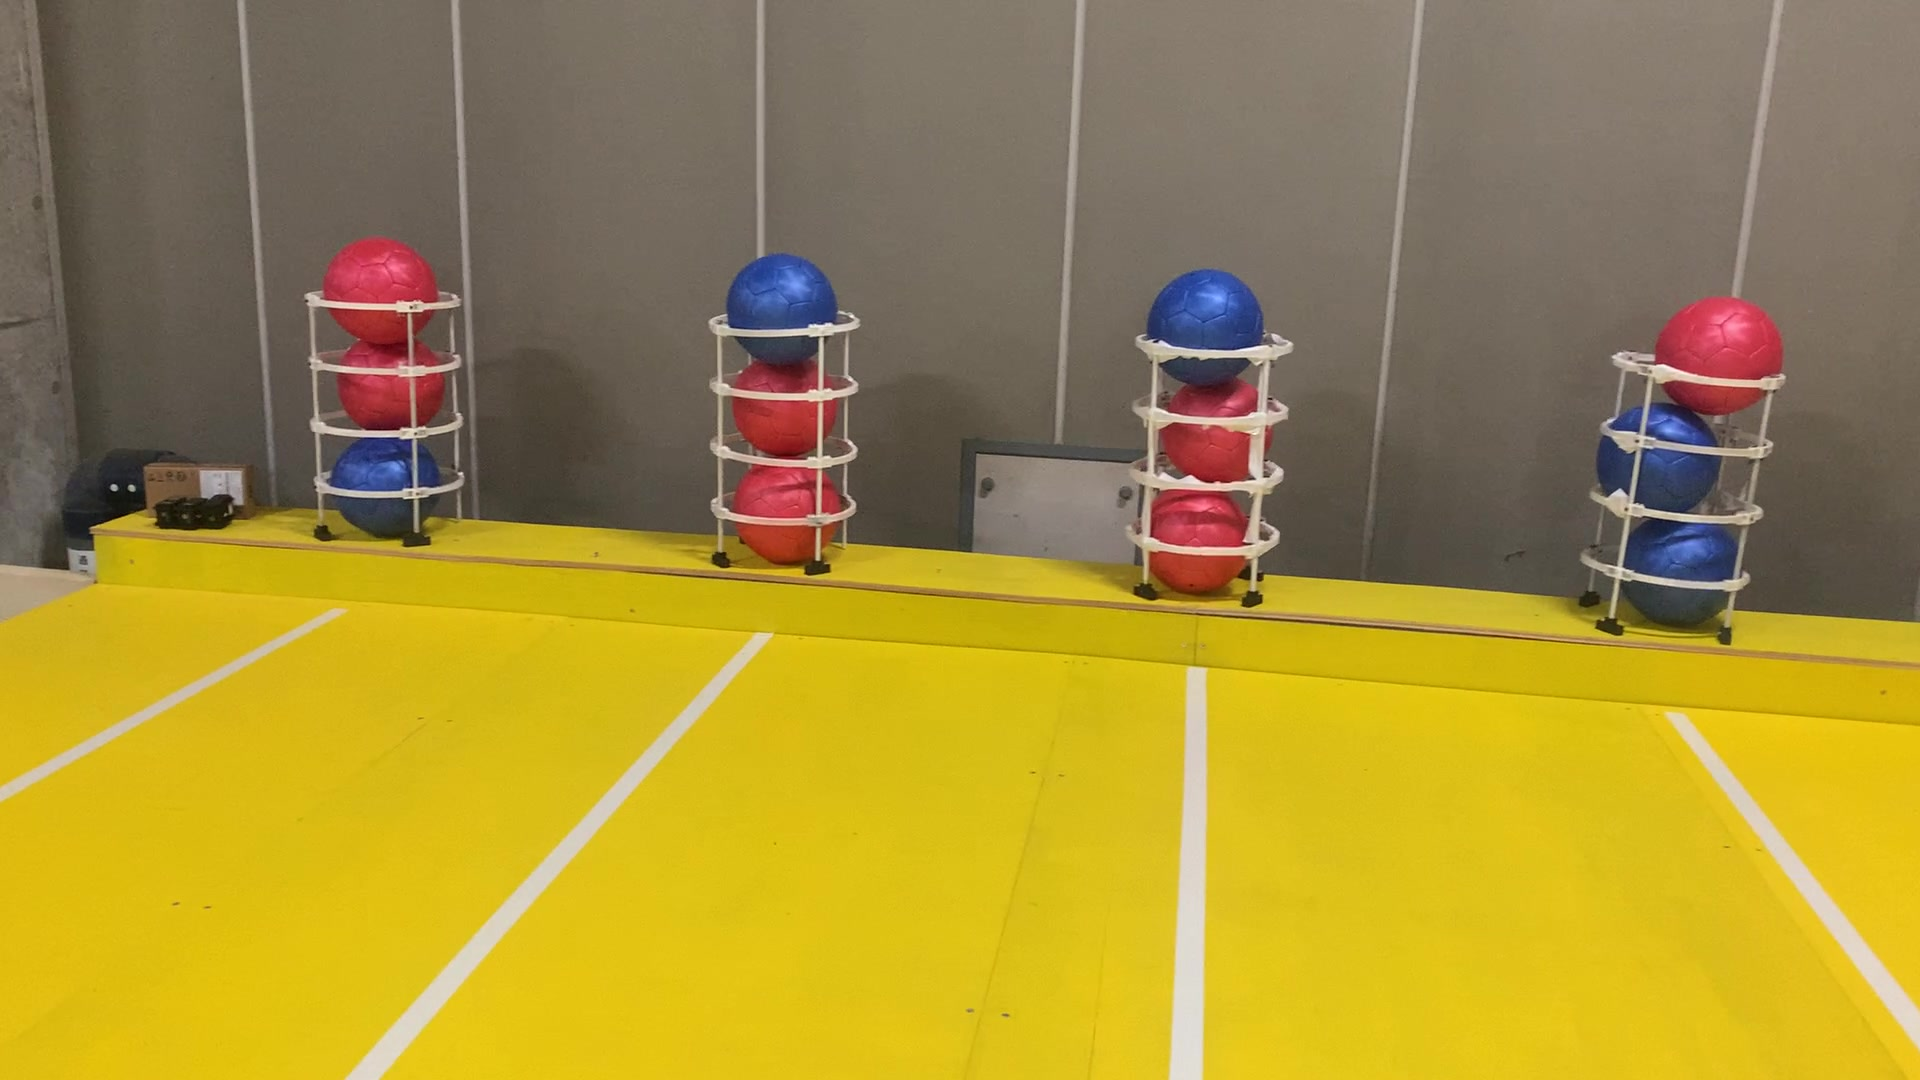blue: (1597, 389, 1729, 521), (1615, 502, 1745, 630), (1146, 266, 1271, 389), (327, 430, 448, 542), (721, 255, 844, 364)
red: (1656, 280, 1783, 421), (332, 326, 451, 443), (320, 235, 439, 351), (1138, 477, 1255, 592), (1149, 371, 1267, 483), (731, 451, 844, 567), (725, 352, 837, 458)
